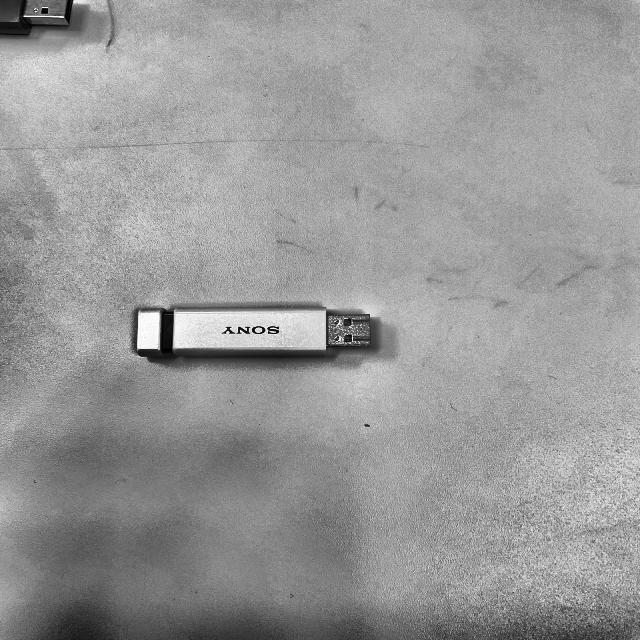Mug: (117, 291, 386, 367)
